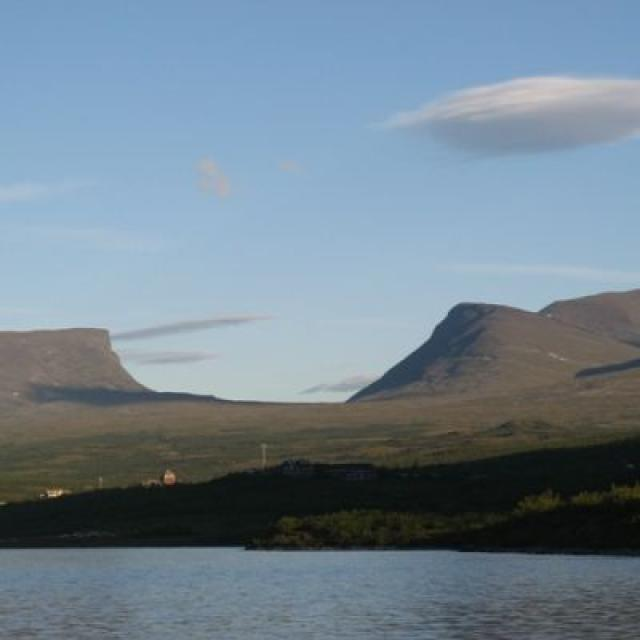Ac: (359, 67, 640, 175)
